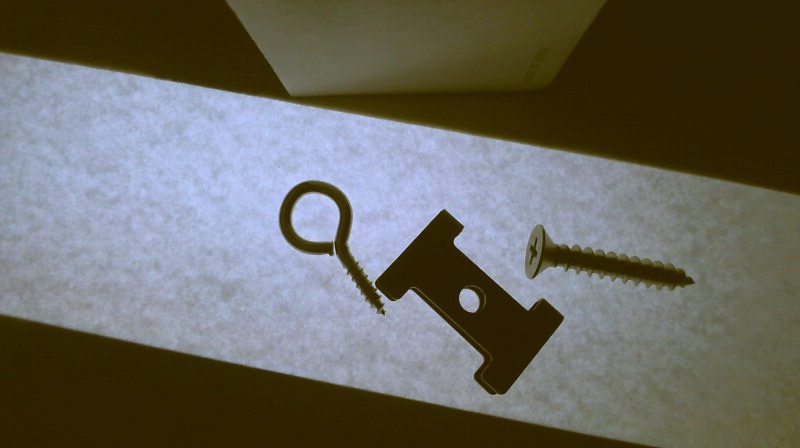O001: (277, 178, 388, 317)
O002: (374, 209, 564, 398)
S001: (525, 222, 695, 293)
